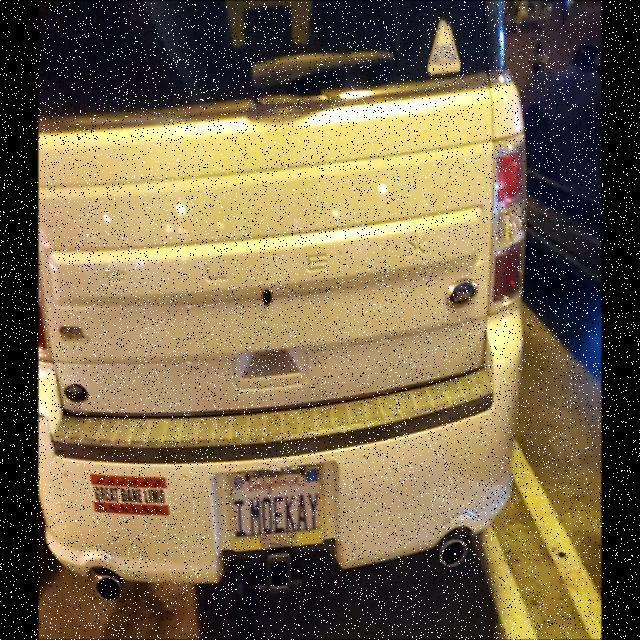LicensePlate: (217, 456, 335, 563)
